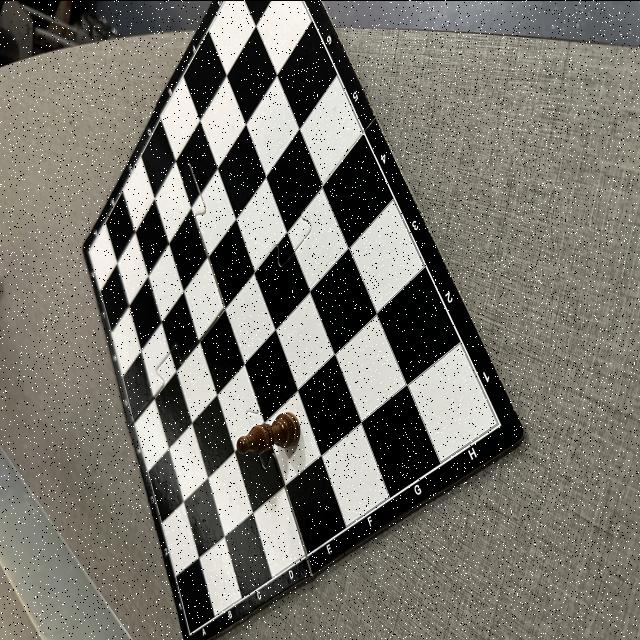Black-Bishop: (235, 411, 301, 455)
